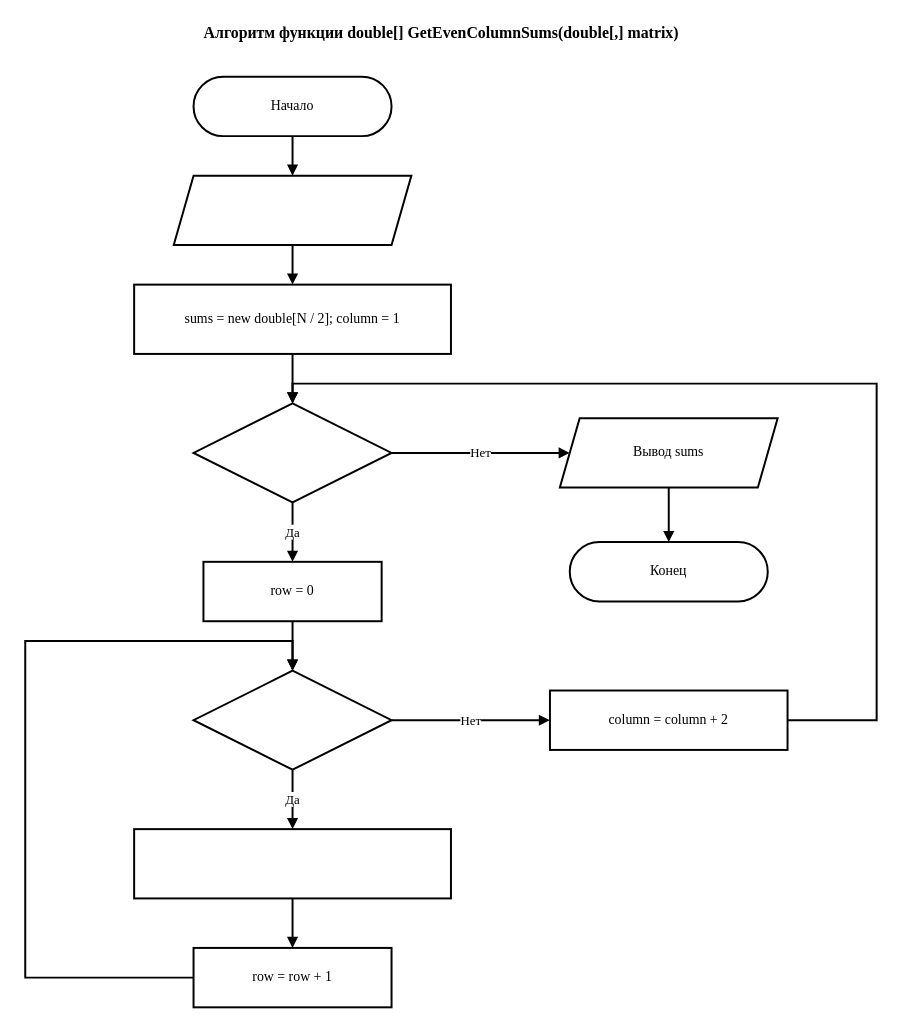
The diagram is 902 pixels wide and 1025 high, and some of its shapes have lost their labels. Each missing label, with the box of its shape:
column < N?: (192, 402, 392, 503)
row < M?: (192, 669, 392, 770)
sums[column / 2] += matrix[row, column]: (133, 828, 451, 899)
Ввод matrix, M, N: (172, 174, 412, 246)
